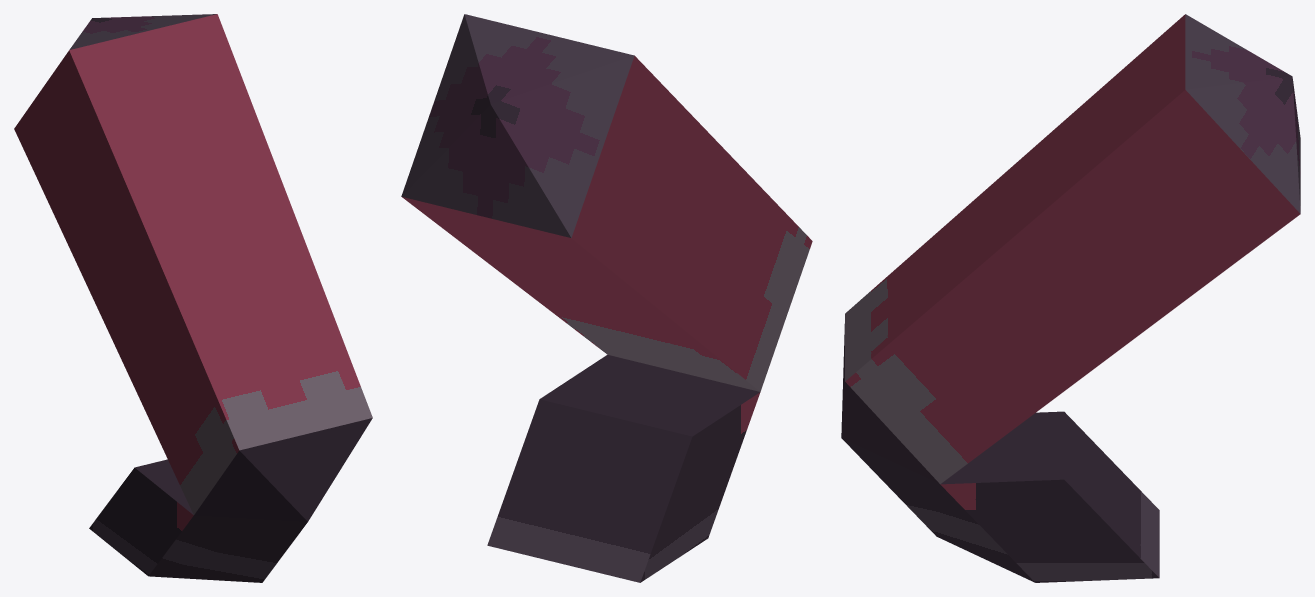
The model's file is kobold_shin.glb.
The picture shows the model from 3 angles, left to right: view 1: azimuth 30°, elevation 25°; view 2: azimuth 150°, elevation 25°; view 3: azimuth 270°, elevation 25°; orthographic projection. The views are drawn at different scales.
Parts seen in each view (by area): view 1: Cube.078; view 2: Cube.078; view 3: Cube.078.
Part boxes in pixels (<box>): Cube.078: <box>14,14,372,582</box>; Cube.078: <box>401,14,812,582</box>; Cube.078: <box>841,14,1300,582</box>.
Size of the model in its own units: 0.8339 by 2.55 by 2.14.
Materials: 1 (1 with a texture image).
